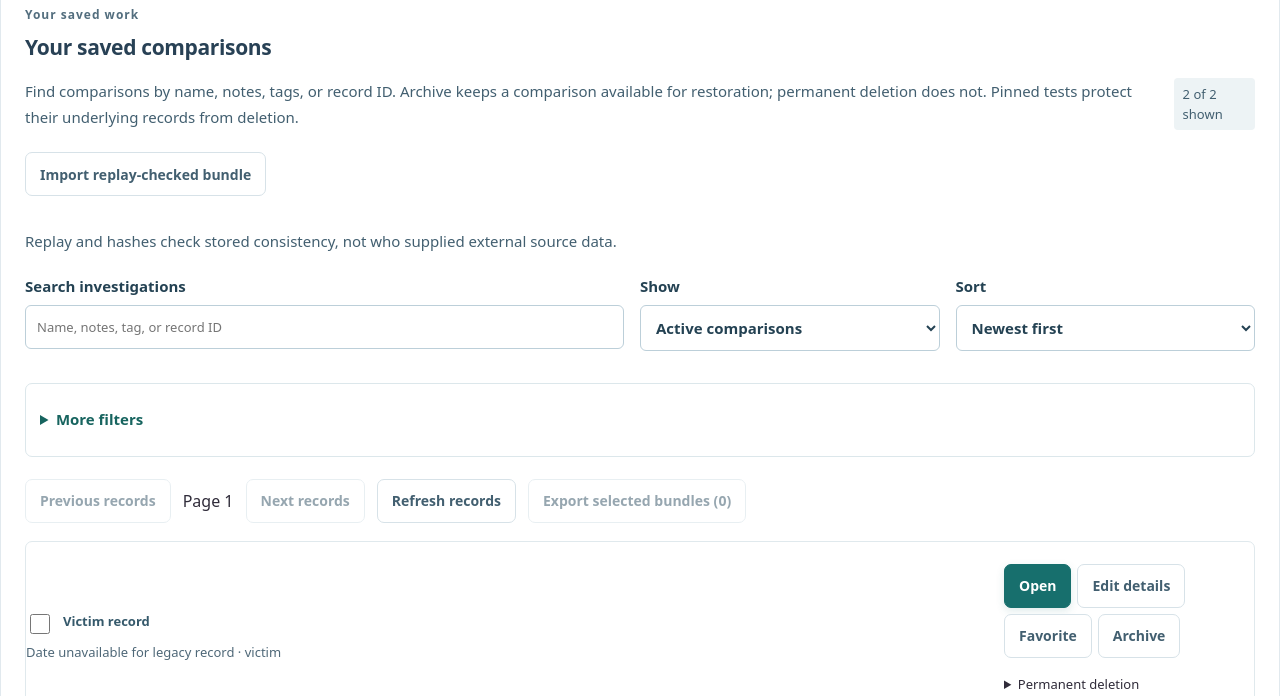
Test: a list request crossing deletion cannot restore the removed record
The width and height of the screenshot is (1280, 696).
Expected: the text "Victim record" is shown, [63,610,150,631]
In the field labelled "Search investigations": {"x": 324, "y": 327} [25,305,624,349], type "record"
(page scrolled)
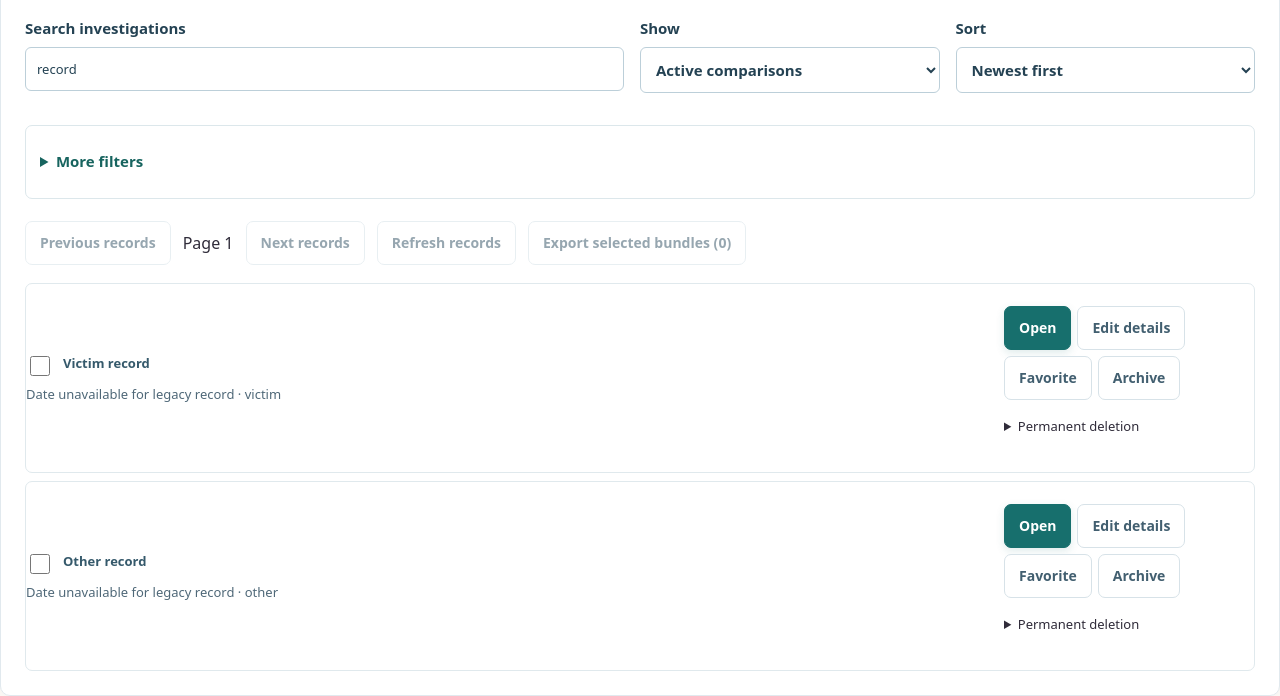
Click the 1st heading "Permanent deletion": {"x": 1079, "y": 426} [1018,417,1139,435]
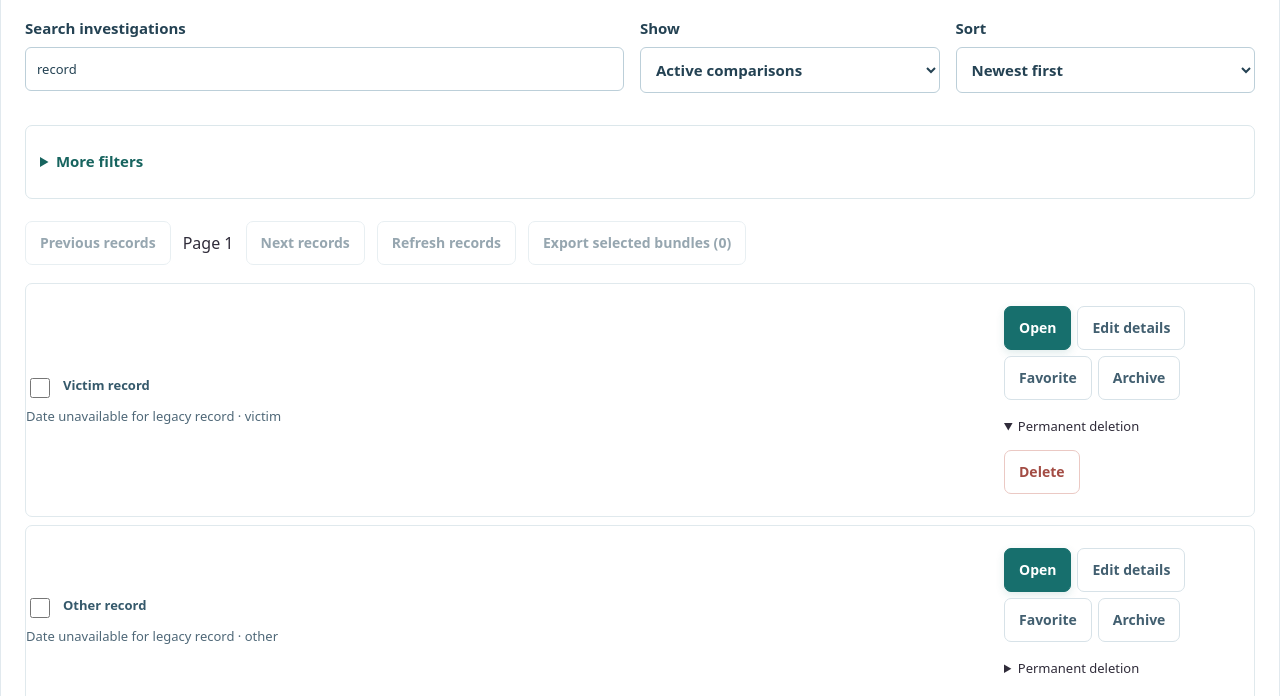
Click the button "Delete": {"x": 1042, "y": 472} [1004,450,1080,494]
(page scrolled)
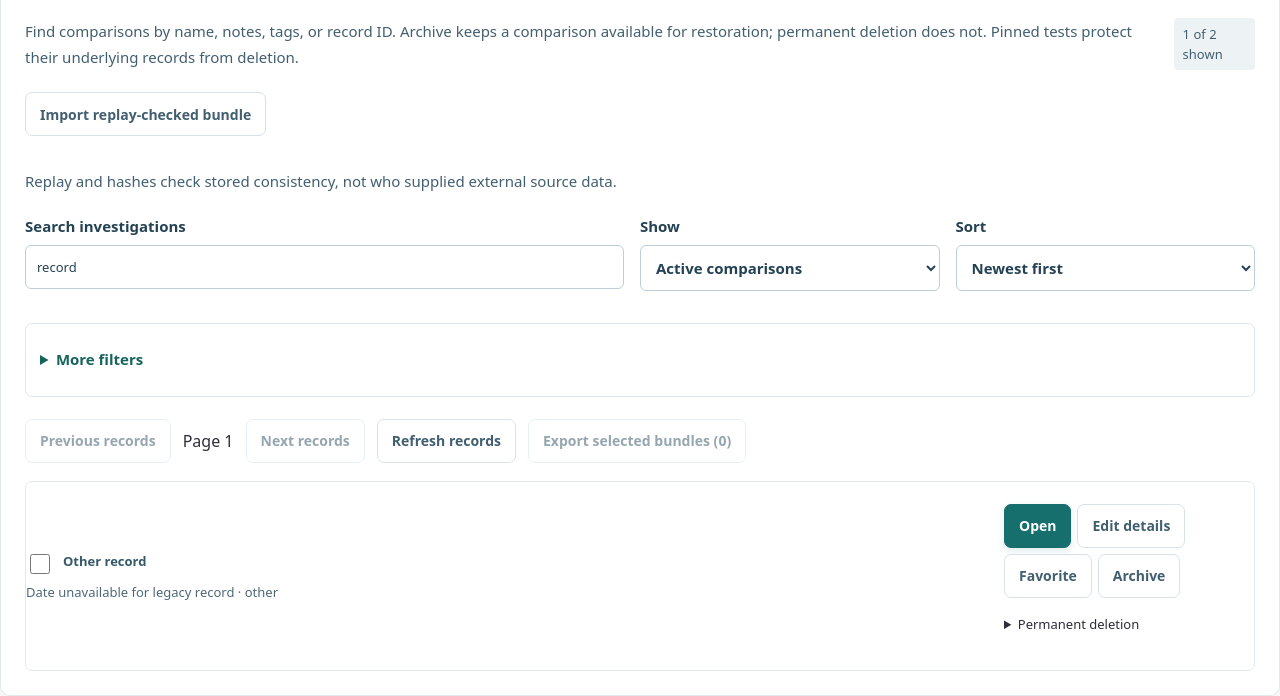
Expected: the text "Other record" is shown, [63,550,146,571]
Expected: the text "Victim record" is gone
